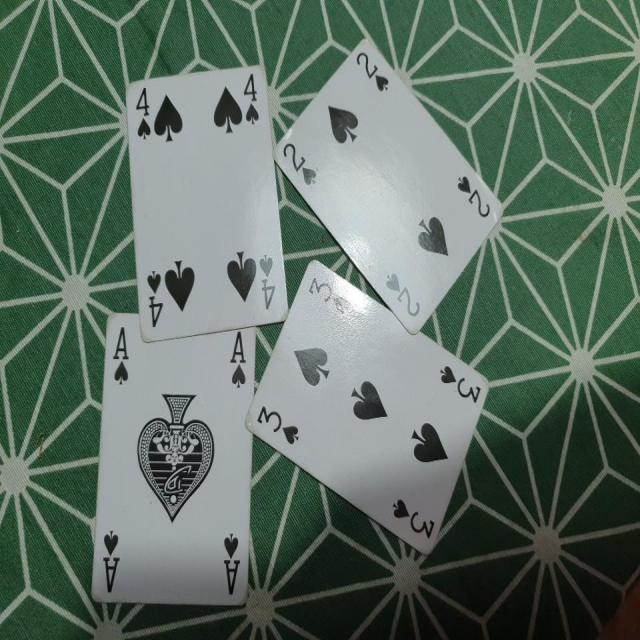2 Spades: (267, 33, 521, 338)
3 Spades: (244, 275, 519, 565)
4 Spades: (109, 55, 293, 337)
A Spades: (95, 309, 260, 632)
